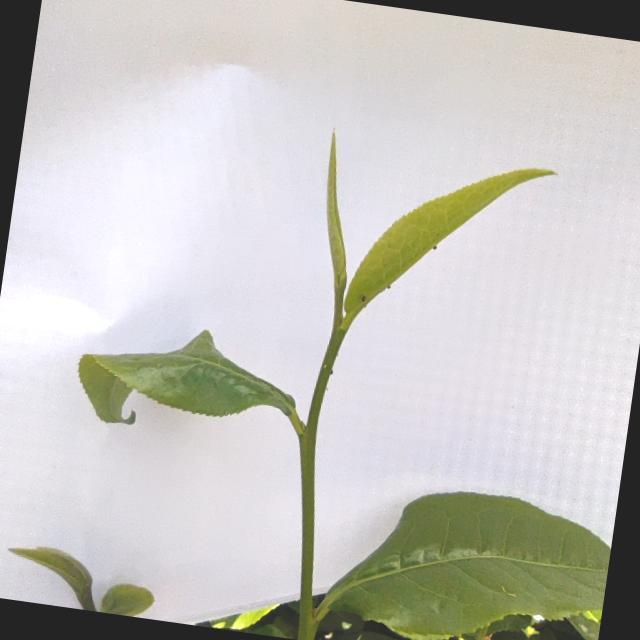Stem: (334, 323, 343, 338)
